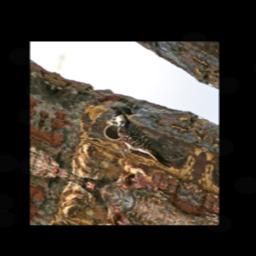Woodpecker: (100, 107, 180, 177)
